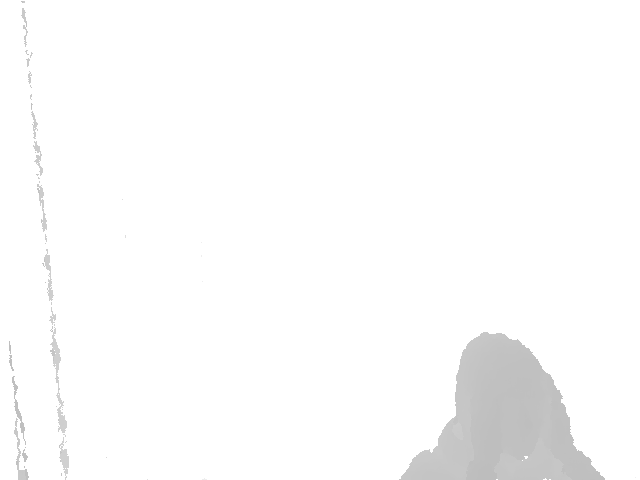head: (454, 333, 550, 458)
person: (397, 332, 608, 480)
